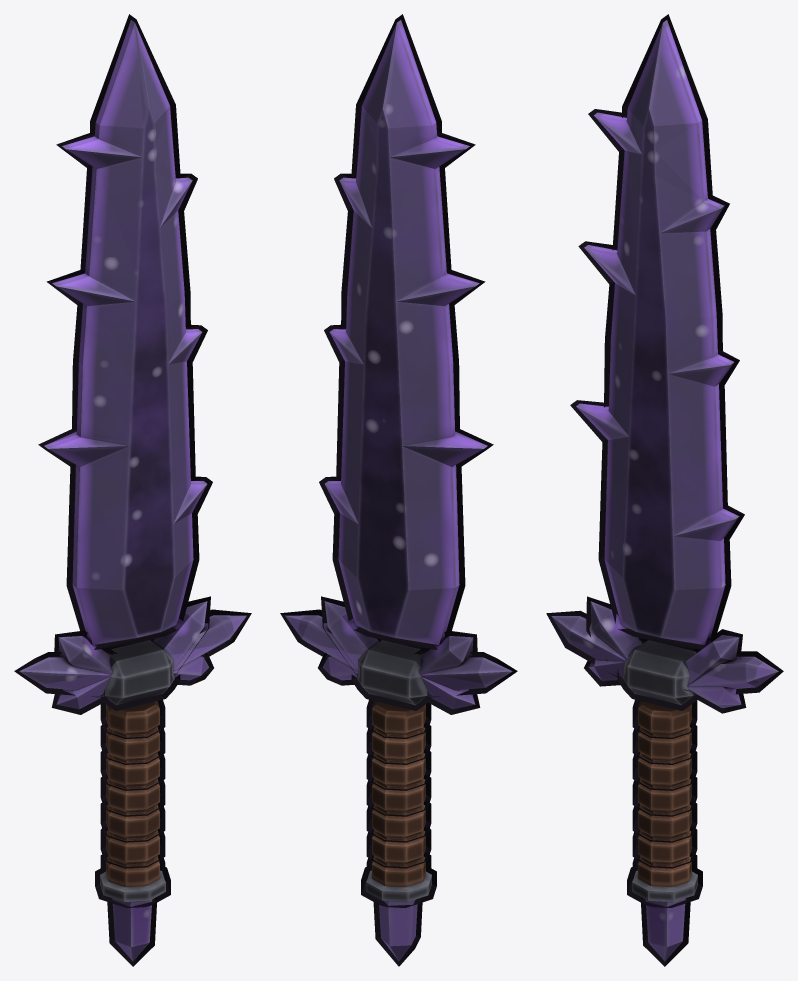
Rendered from ObsidianShard.fbx.
3 views of the same model, side by side, from view 1: azimuth 30°, elevation 25°; view 2: azimuth 150°, elevation 25°; view 3: azimuth 330°, elevation 25° (orthographic).
Visible parts, largest first — view 1: ObsidianShard, ObsidianShardOutline; view 2: ObsidianShard, ObsidianShardOutline; view 3: ObsidianShard, ObsidianShardOutline.
Part boxes in pixels (left/top/right/bottom): ObsidianShard: left=19, top=20, right=246, bottom=960; ObsidianShardOutline: left=14, top=14, right=251, bottom=966; ObsidianShard: left=285, top=20, right=512, bottom=960; ObsidianShardOutline: left=280, top=14, right=517, bottom=966; ObsidianShard: left=551, top=20, right=778, bottom=960; ObsidianShardOutline: left=546, top=14, right=783, bottom=966.
Size of the model in its own units: 102 by 388 by 29.06.
2 materials, 1 textured.
